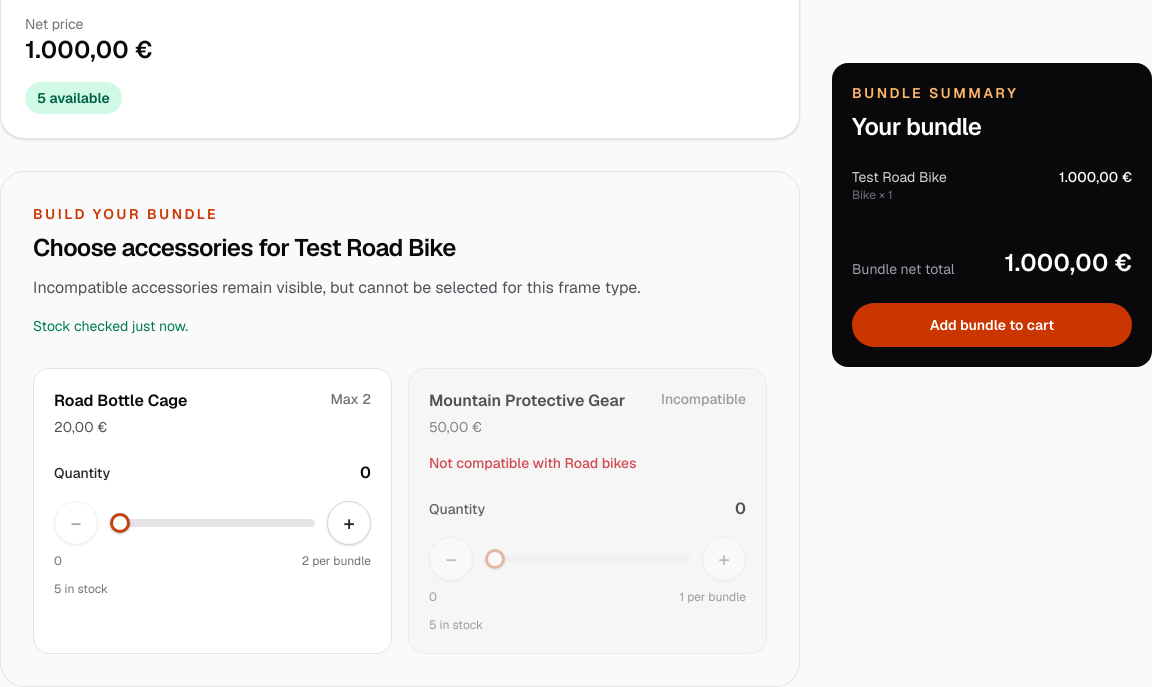
it: BundleConfigurator › keeps rapid quantity changes within the configured maximum
The width and height of the screenshot is (1152, 687).
(page scrolled)
Double-click the button "+" below "20,00 €".
double_click(349, 523)  # box [327,501,371,545]
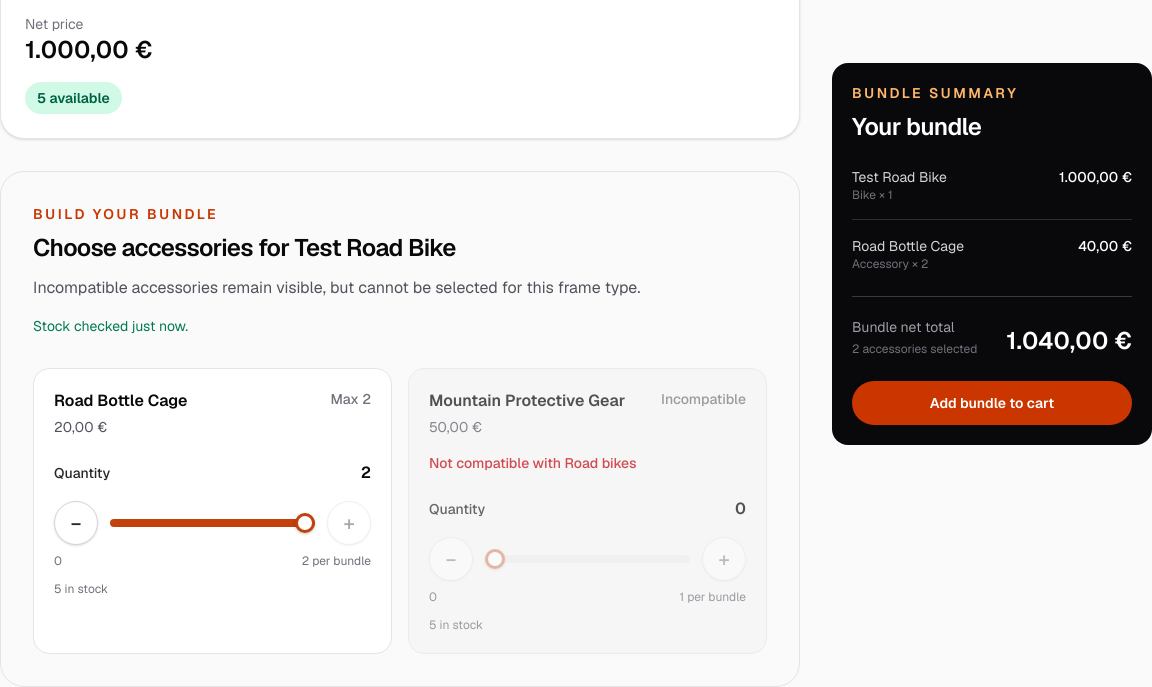
Expected: the text "2 accessories selected" is shown, [852,341,977,357]
